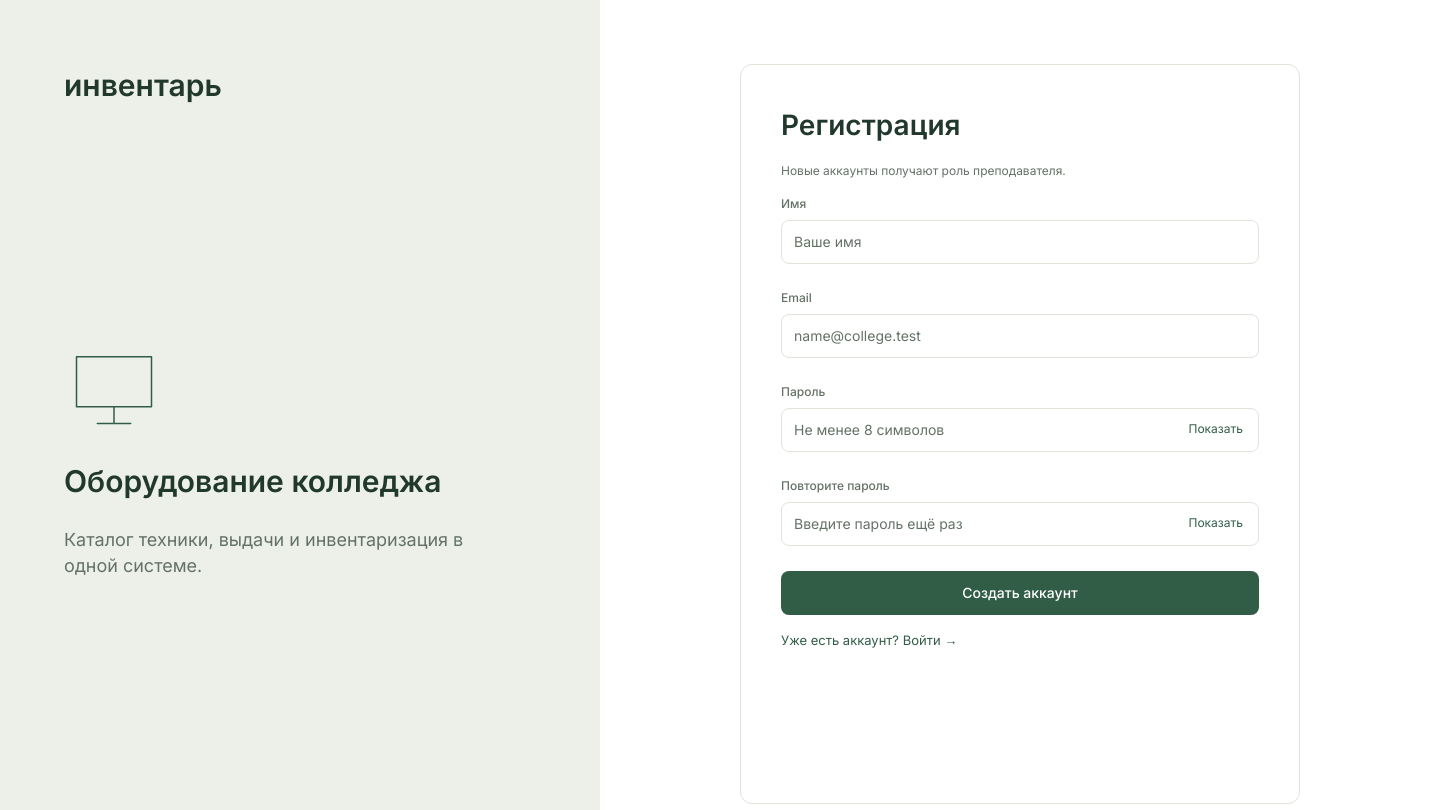
Scenario: Authentication forms › checks password confirmation and reports a network failure without creating a local account
Type "Анна" into the field labelled "Имя" at (1020, 242), box [781,220,1259,264]
Type "anna@college.test" into the field labelled "Email" at (1020, 336), box [781,314,1259,358]
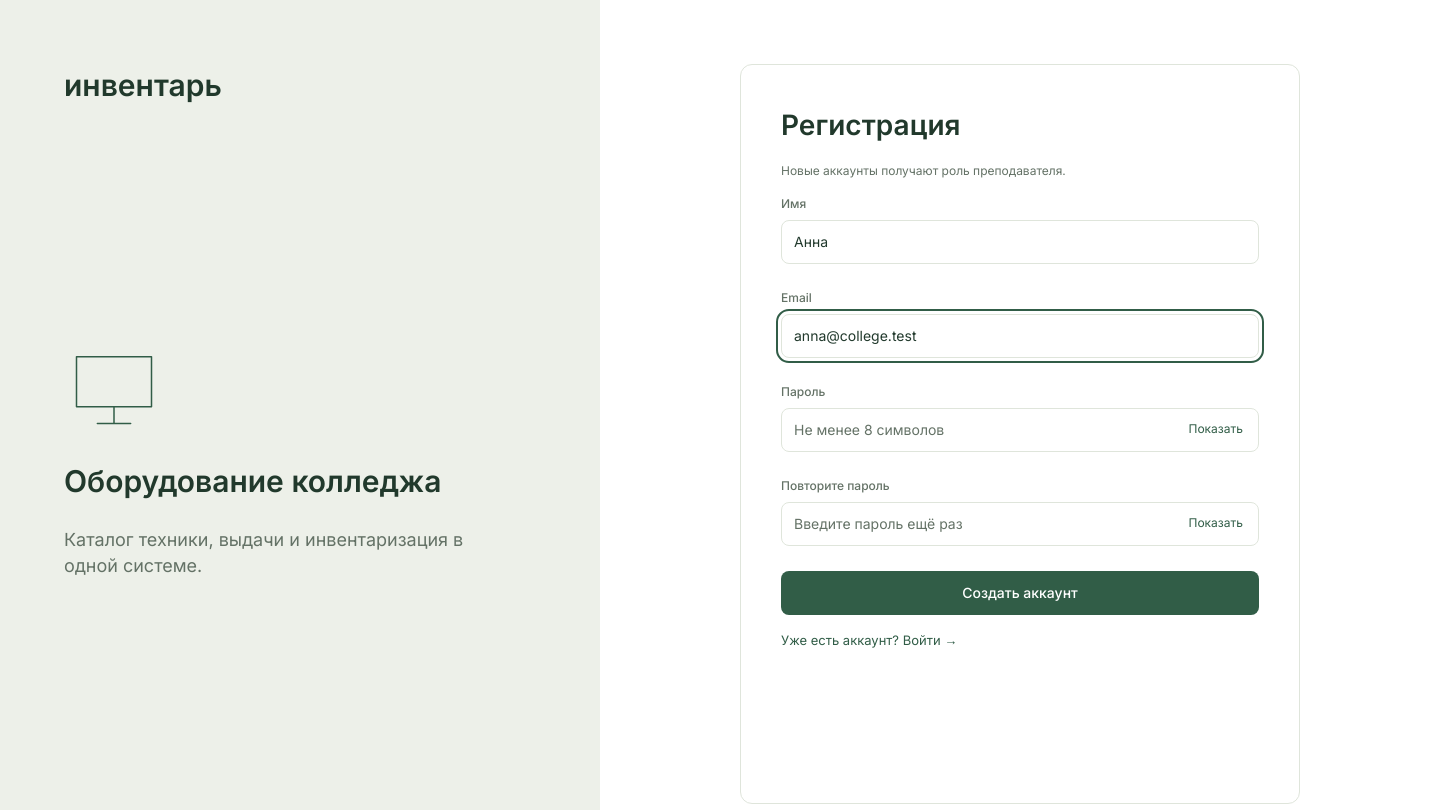
Type "Example-123" into the password field labelled "Пароль" at (1020, 430), box [781,408,1259,452]
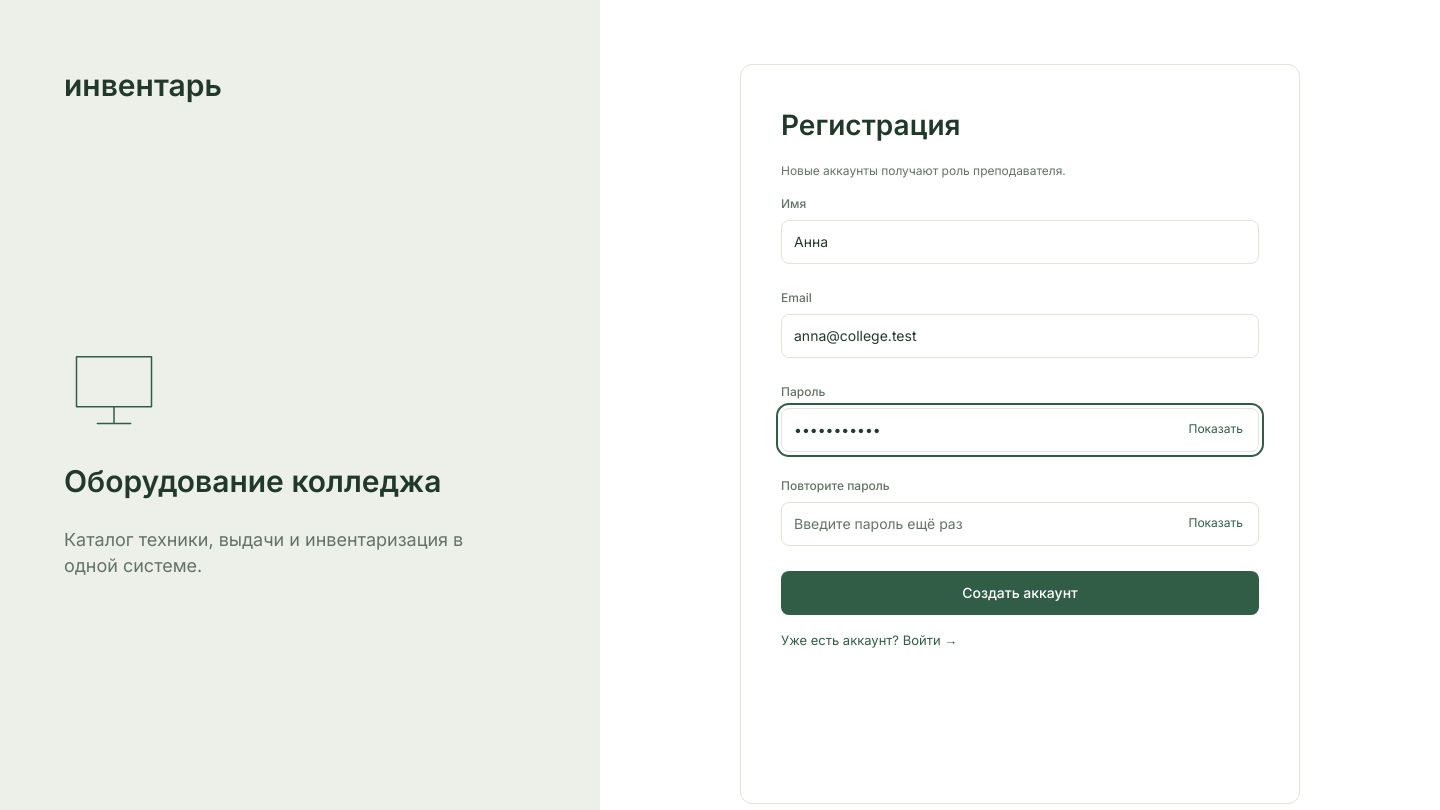
Type "Different-123" into the password field labelled "Повторите пароль" at (1020, 524), box [781,502,1259,546]
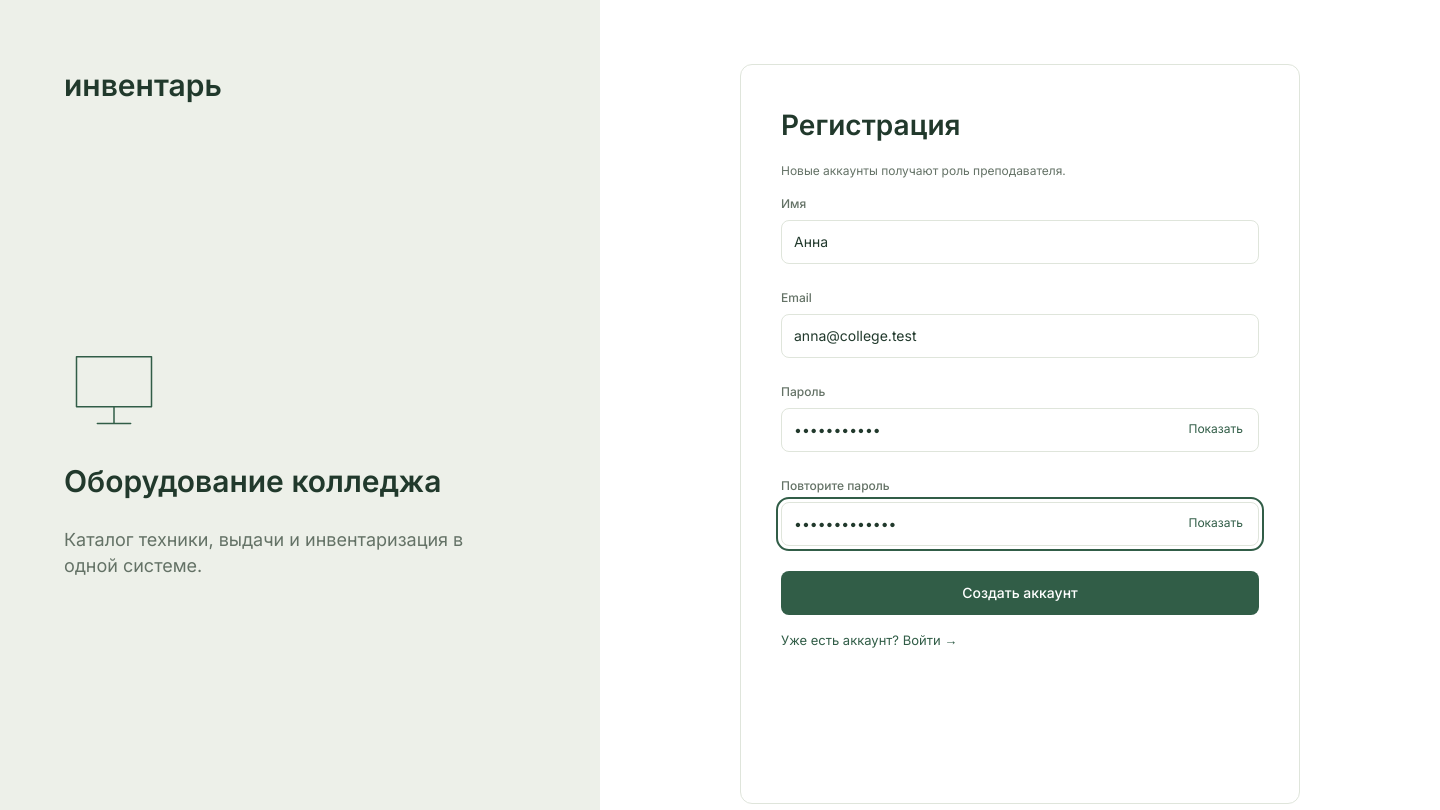
Click the button "Создать аккаунт" at (1020, 593), box [781,571,1259,615]
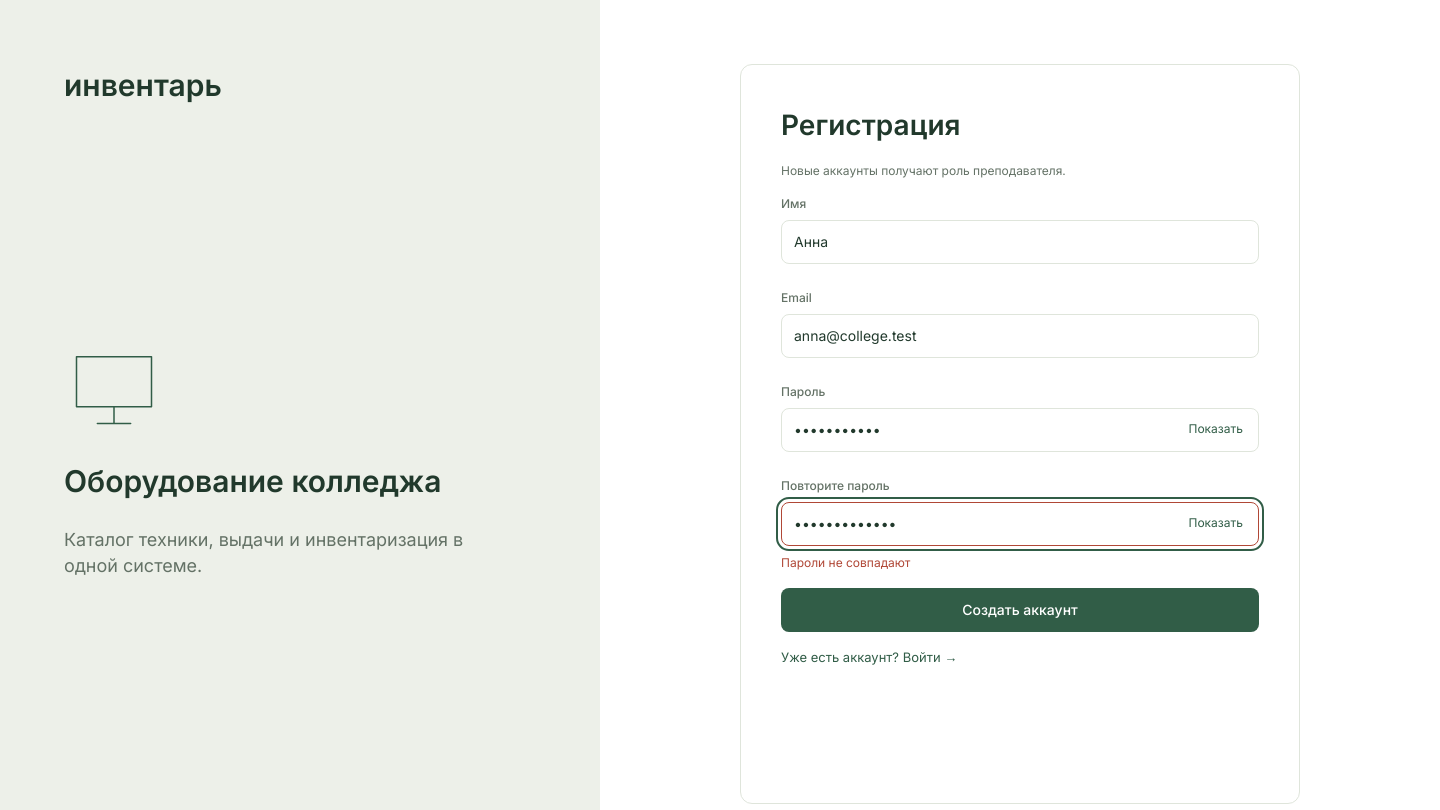
Result: the text "Пароли не совпадают" is shown at [781,555,910,570]
Type "Example-123" into the password field labelled "Повторите пароль" at (1020, 524), box [781,502,1259,546]
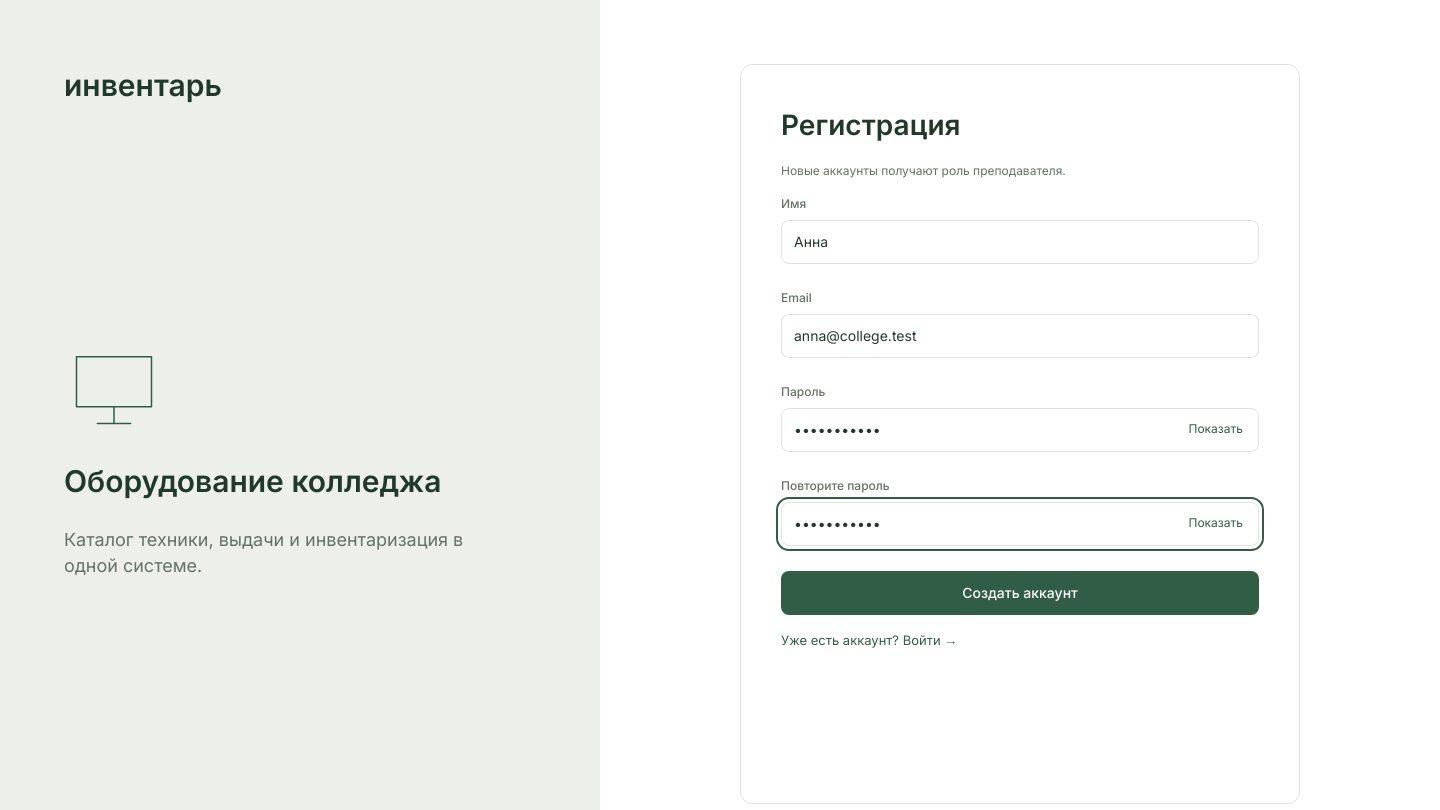
Click the button "Создать аккаунт" at (1020, 593), box [781,571,1259,615]
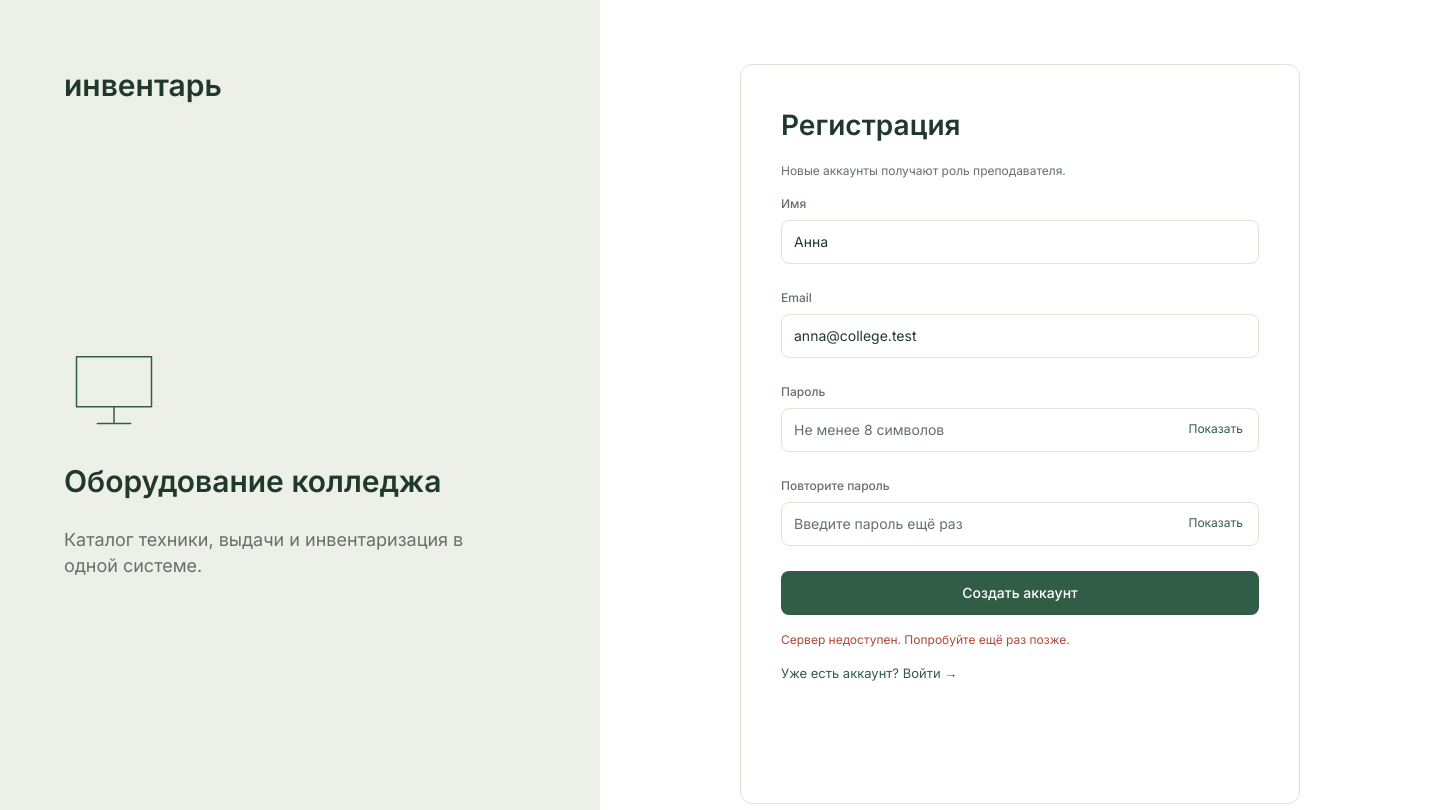
Result: the text "Сервер недоступен. Попробуйте ещё раз позже." is shown at [781,632,1070,647]
Result: the password field labelled "Пароль" is empty at [781,408,1259,452]
